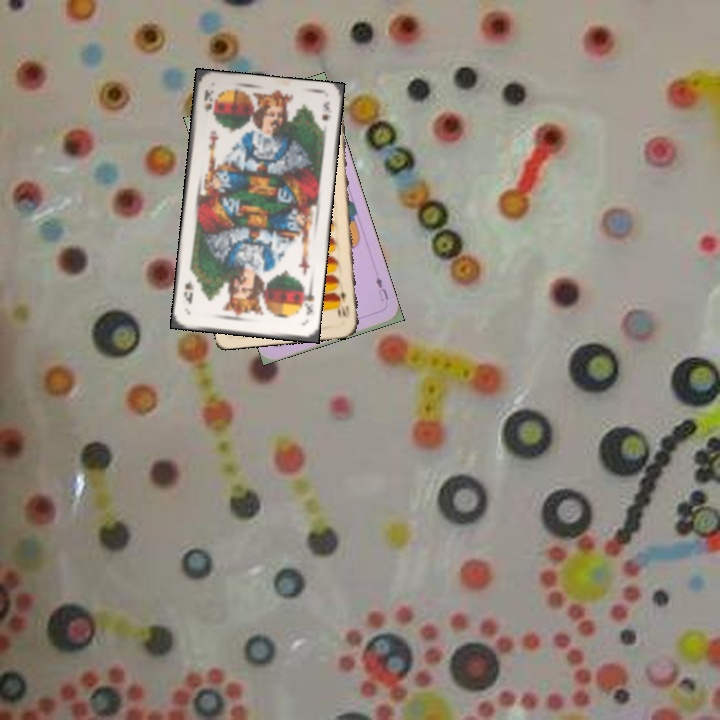E10: (336, 288, 352, 320)
EU: (372, 273, 391, 304)
SK: (297, 284, 316, 317), (199, 86, 217, 114)
